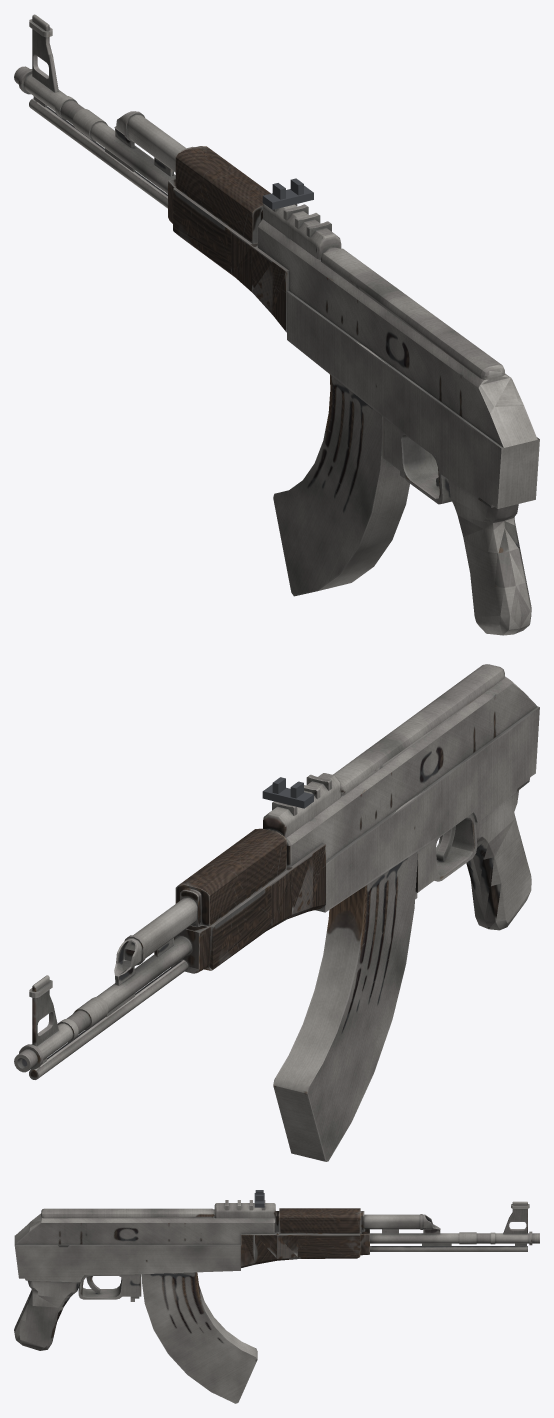
Rendered from carbine.glb.
The picture shows the model from 3 angles, top to bottom: view 1: azimuth 30°, elevation 25°; view 2: azimuth 150°, elevation 25°; view 3: azimuth 270°, elevation 25°; orthographic projection. The views are drawn at different scales.
Parts seen in each view (by area): view 1: ak47variant, akmagazine_low.001, aw_part_carbine_part_blued; view 2: ak47variant, akmagazine_low.001, aw_part_carbine_part_blued; view 3: ak47variant, akmagazine_low.001.
Part boxes in pixels (x1,y1,x2,y2): ak47variant: (14, 14, 539, 635); akmagazine_low.001: (273, 374, 409, 596); aw_part_carbine_part_blued: (262, 178, 313, 209); ak47variant: (14, 664, 539, 1079); akmagazine_low.001: (273, 851, 417, 1161); aw_part_carbine_part_blued: (262, 777, 313, 808); ak47variant: (14, 1200, 539, 1350); akmagazine_low.001: (141, 1272, 257, 1403).
Size of the model in its own units: 0.03 by 0.2707 by 0.6254.
2 materials, 1 textured.
